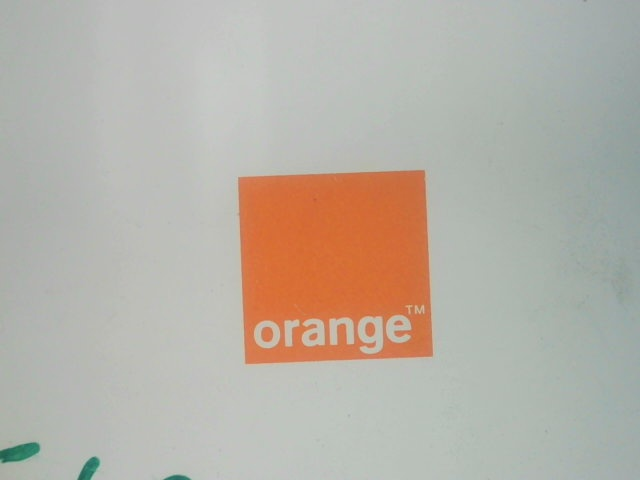AR_Orange: (227, 167, 443, 365)
